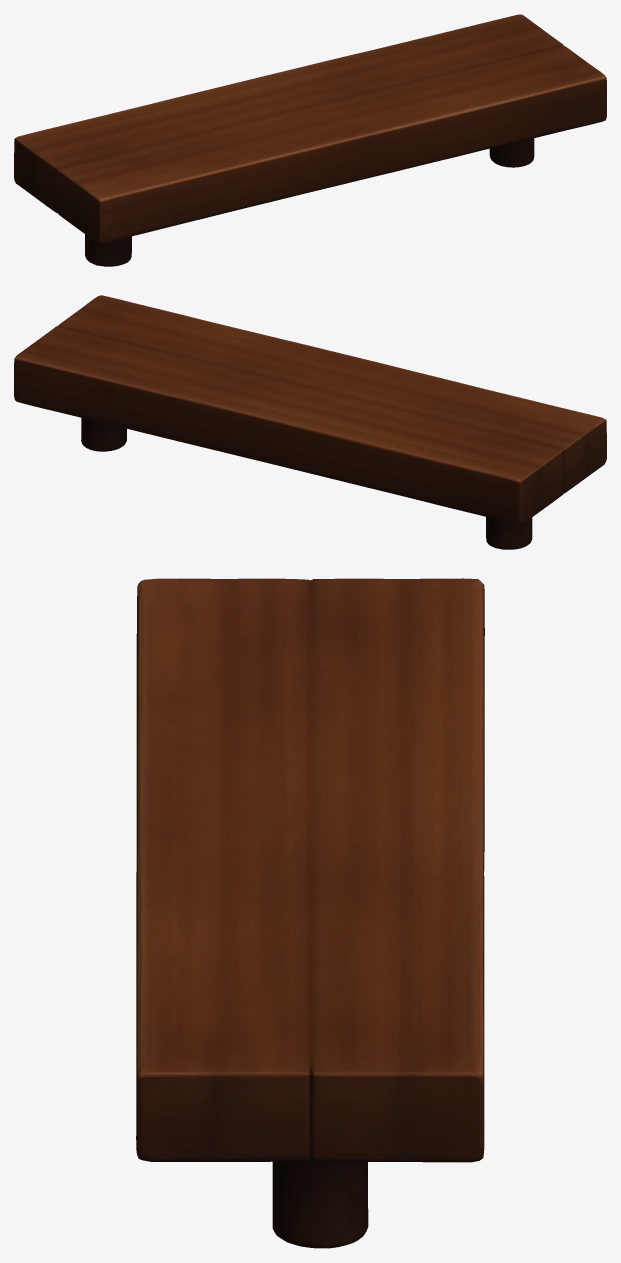
The model's file is env_wall_shelf.glb.
3 views of the same model, one above another, from view 1: azimuth 30°, elevation 25°; view 2: azimuth 150°, elevation 25°; view 3: azimuth 270°, elevation 25° (orthographic). The views are drawn at different scales.
Visible parts, largest first — view 1: geometry_0; view 2: geometry_0; view 3: geometry_0.
Boxes of the visible parts, x1,y1,x2,y2 form: geometry_0: [14, 14, 606, 266]; geometry_0: [14, 295, 606, 549]; geometry_0: [136, 578, 484, 1248].
Size of the model in its own units: 1 by 0.1961 by 0.2971.
Materials: 1 (1 with a texture image).
